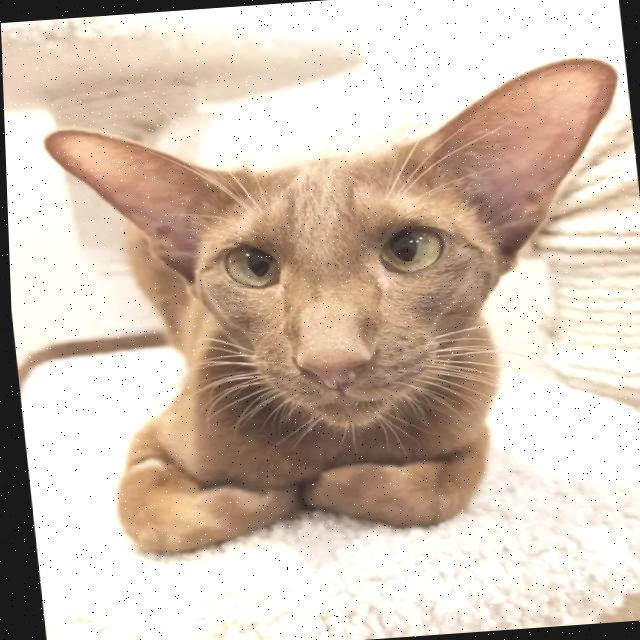Oriental: (29, 49, 640, 563)
